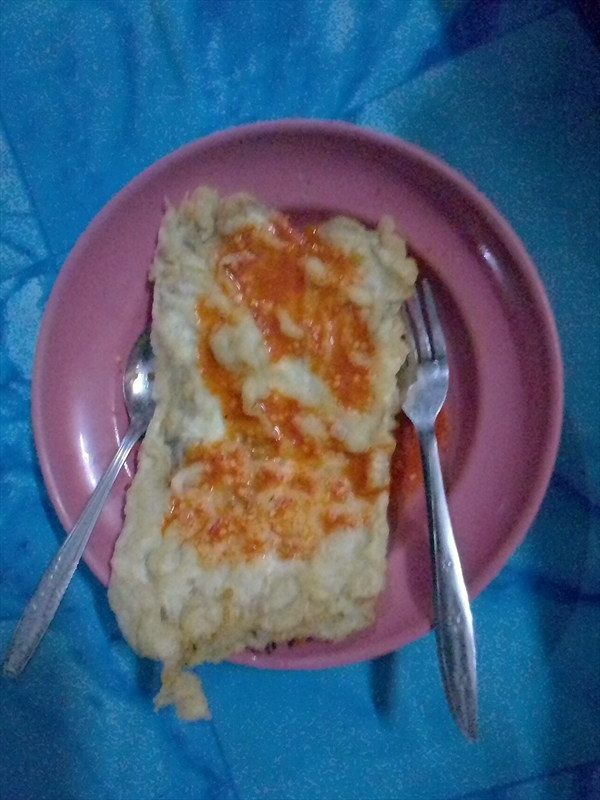Tempe Goreng: (76, 212, 486, 595)
